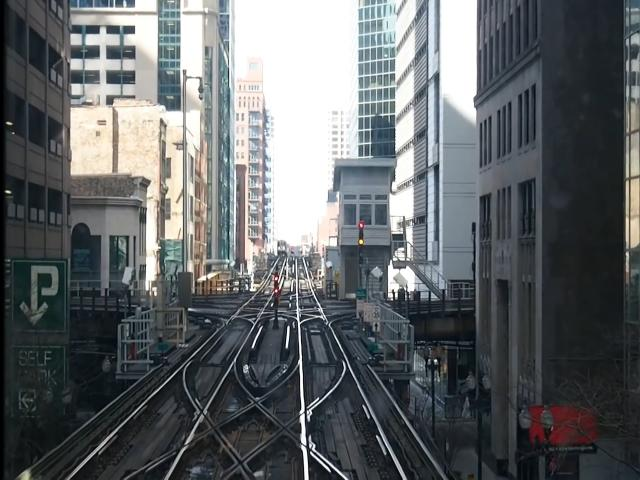signal light: (359, 223, 366, 269), (274, 272, 281, 309)
